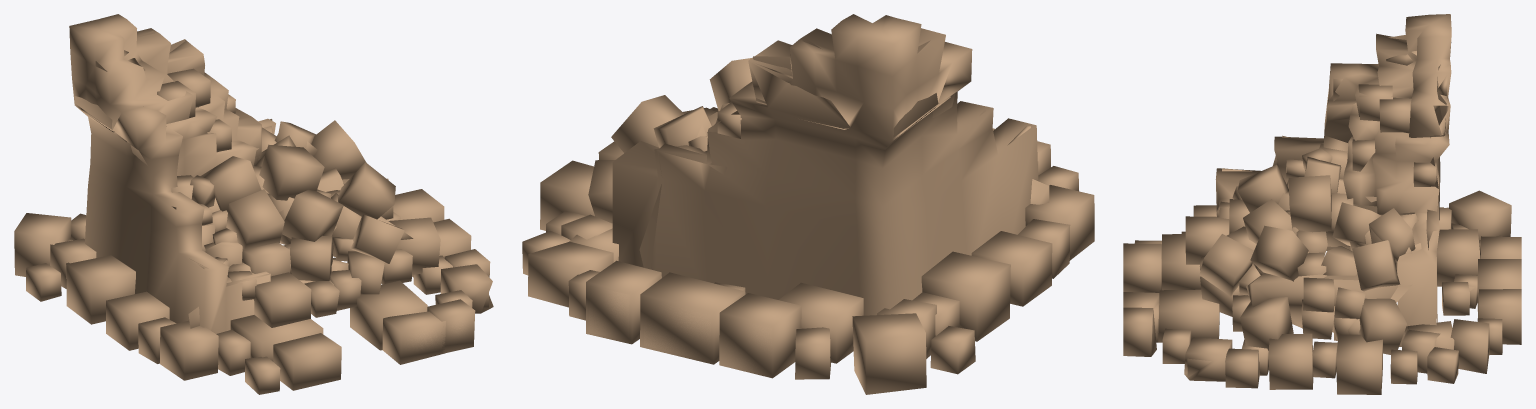
3 renders of one model, left to right at view 1: azimuth 30°, elevation 25°; view 2: azimuth 150°, elevation 25°; view 3: azimuth 270°, elevation 25°, orthographic. The views are drawn at different scales.
Visible parts, largest first — view 1: castle_d4.3; view 2: castle_d4.3; view 3: castle_d4.3.
Part boxes in pixels (box(x1,y1,x2,y2)): castle_d4.3: box(14, 14, 493, 394); castle_d4.3: box(522, 14, 1094, 394); castle_d4.3: box(1123, 14, 1521, 394).
Bounding box in the file's own units: 2.87 × 1.91 × 2.9.
